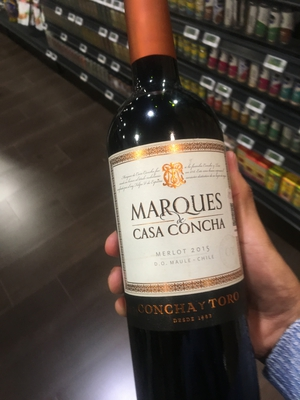marques de casa concha merlot: (82, 8, 258, 400)
